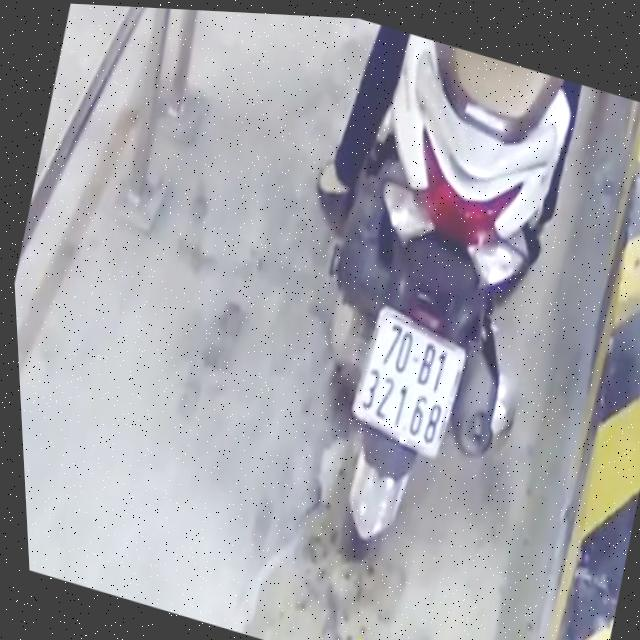motorcycle: (260, 21, 617, 613)
plate: (339, 297, 479, 464)
